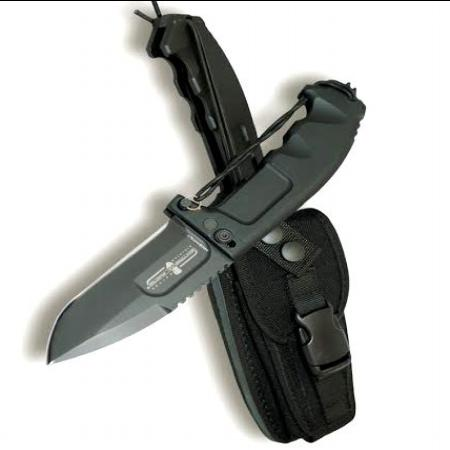long weapon: (39, 200, 243, 368)
